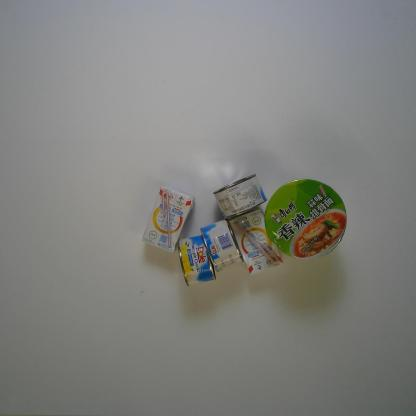Canned Food: (213, 173, 268, 220), (200, 218, 244, 273), (177, 234, 217, 287)
Instant Noodles: (264, 178, 348, 262)
Milk: (228, 208, 284, 276), (141, 186, 196, 254)
